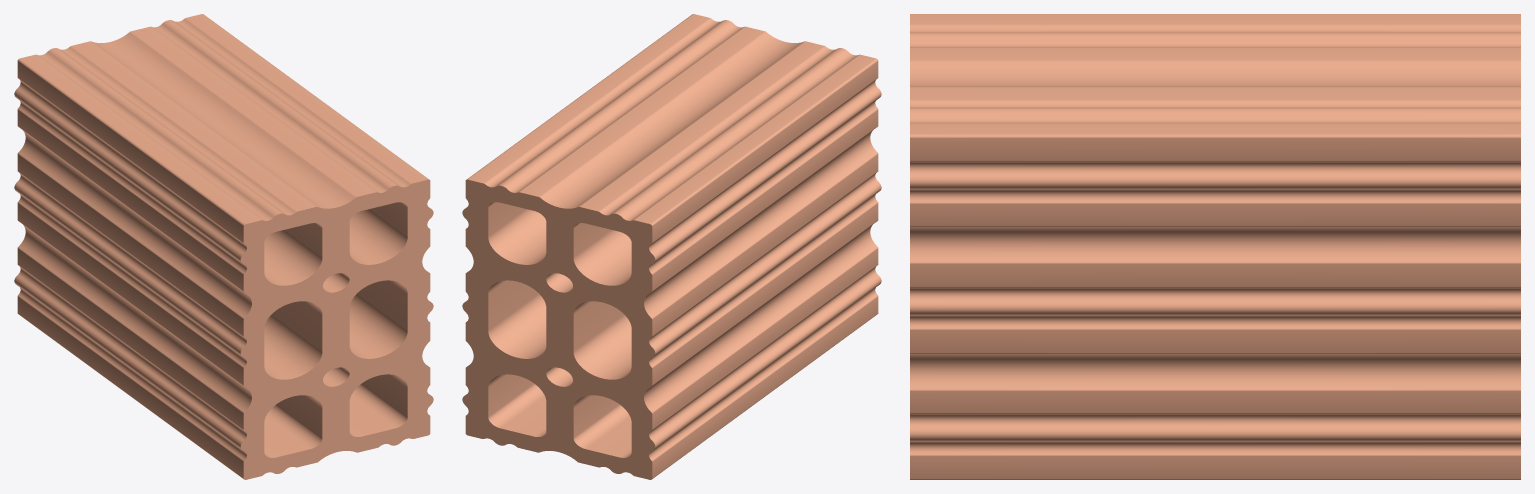
Rendered from brick1-v1.glb.
The picture shows the model from 3 angles, left to right: view 1: azimuth 30°, elevation 25°; view 2: azimuth 150°, elevation 25°; view 3: azimuth 270°, elevation 25°; orthographic projection. The views are drawn at different scales.
Size of the model in its own units: 0.0736 by 0.0948 by 0.1496.
